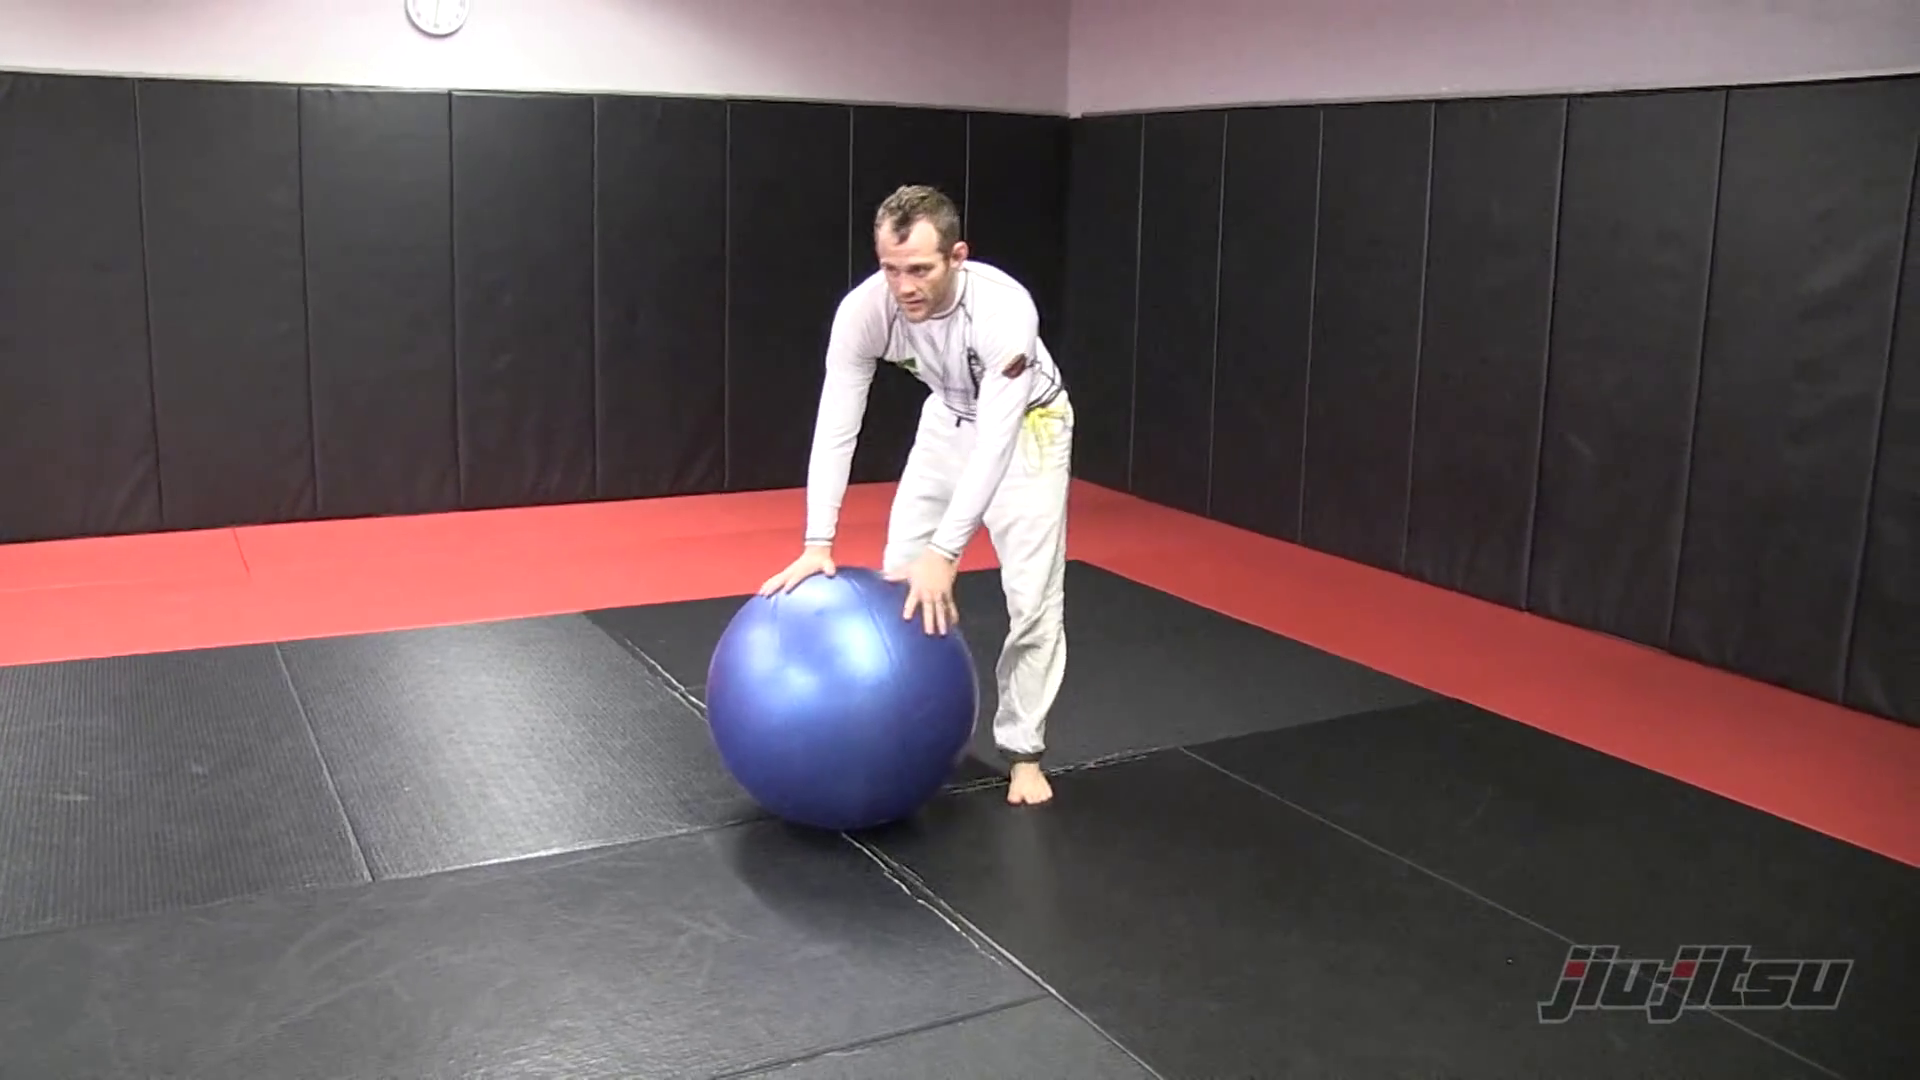yogaball: (687, 556, 1000, 837)
